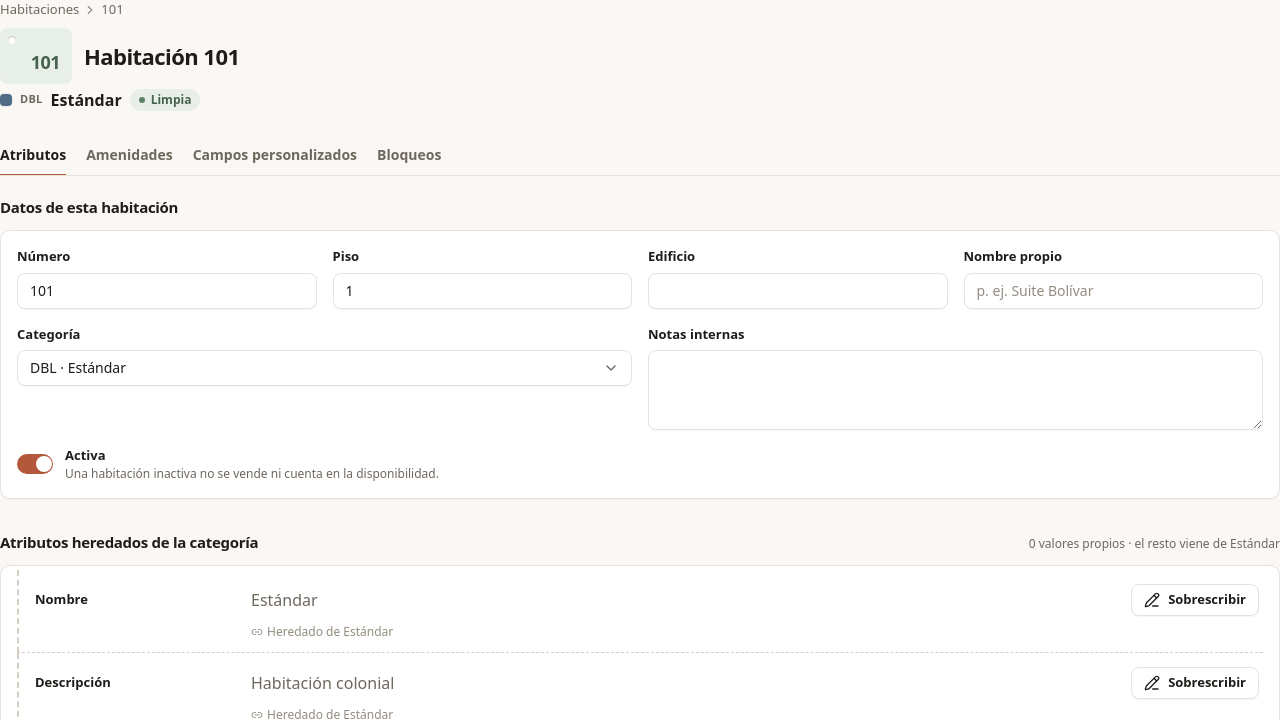
Test: RoomEditorPage › marks the room number when the server says it is taken
Step 1. Replace the text in the field labelled "Número" with "102" → (167, 290), box left=17, top=272, right=316, bottom=308
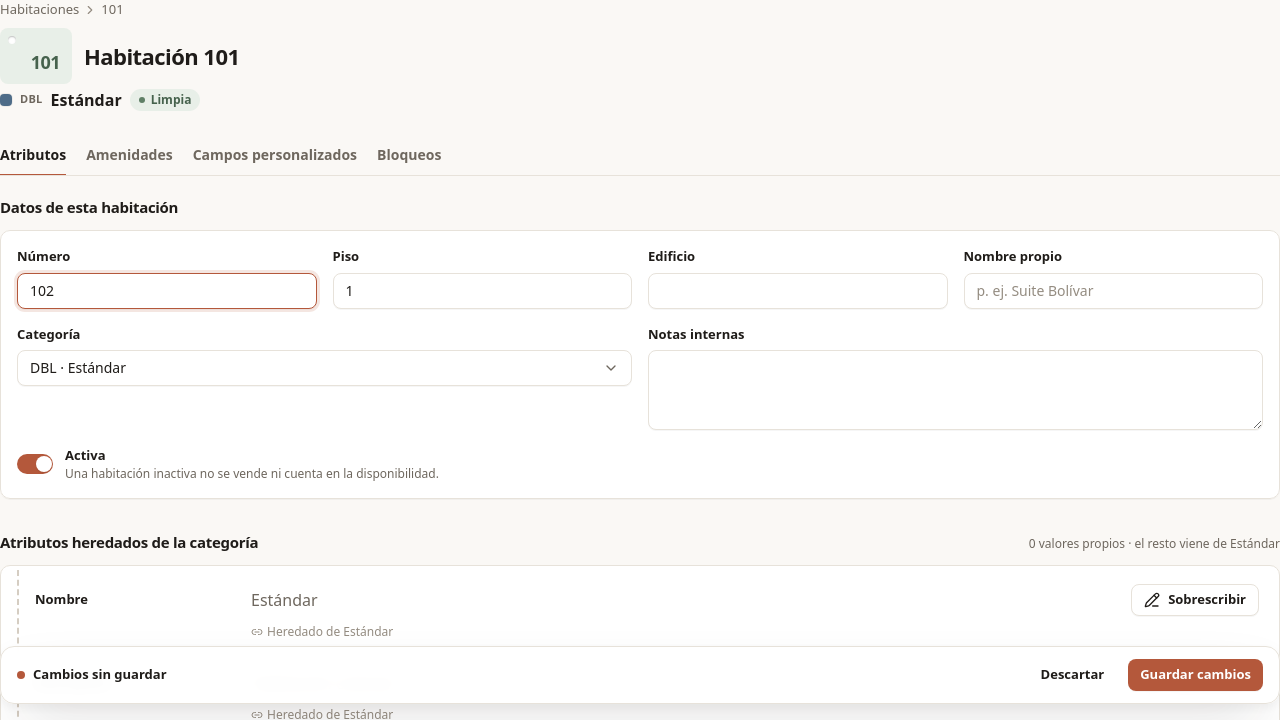
Step 2. Click the button "Guardar cambios" → (1196, 675), box left=1128, top=659, right=1263, bottom=691
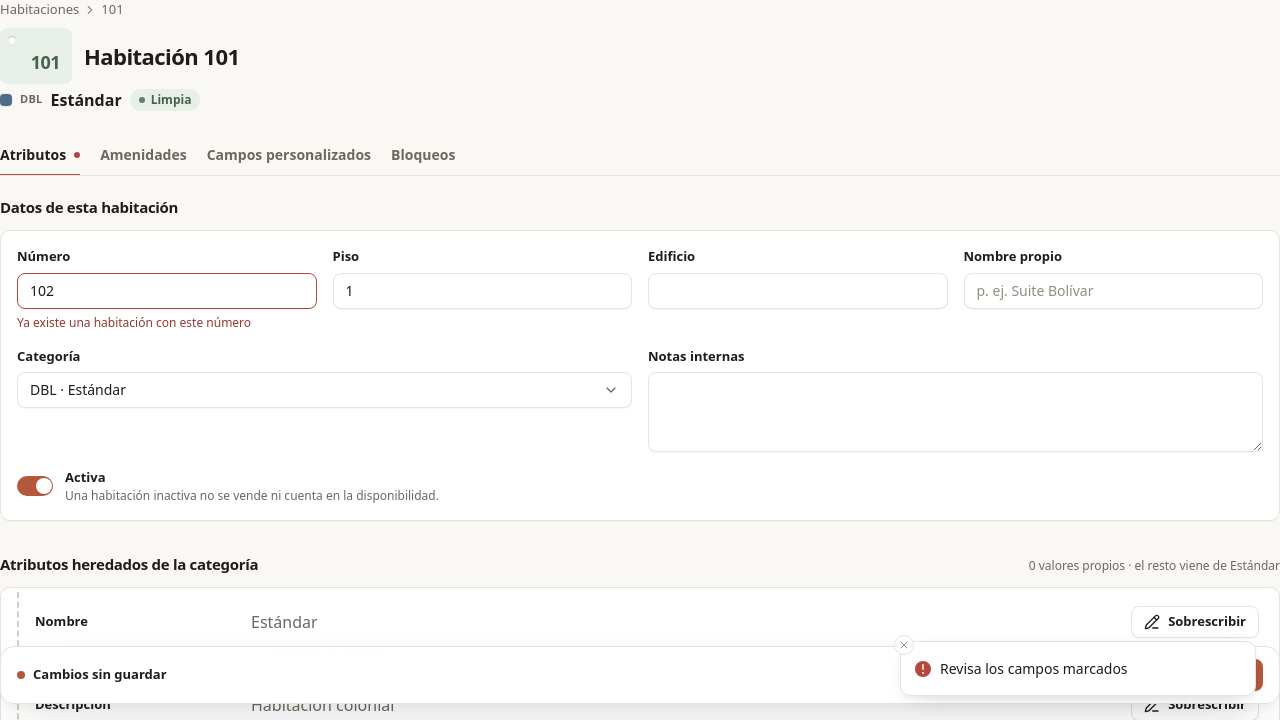
Expected: the text "Ya existe una habitación con este número" is shown, left=17, top=314, right=251, bottom=330
